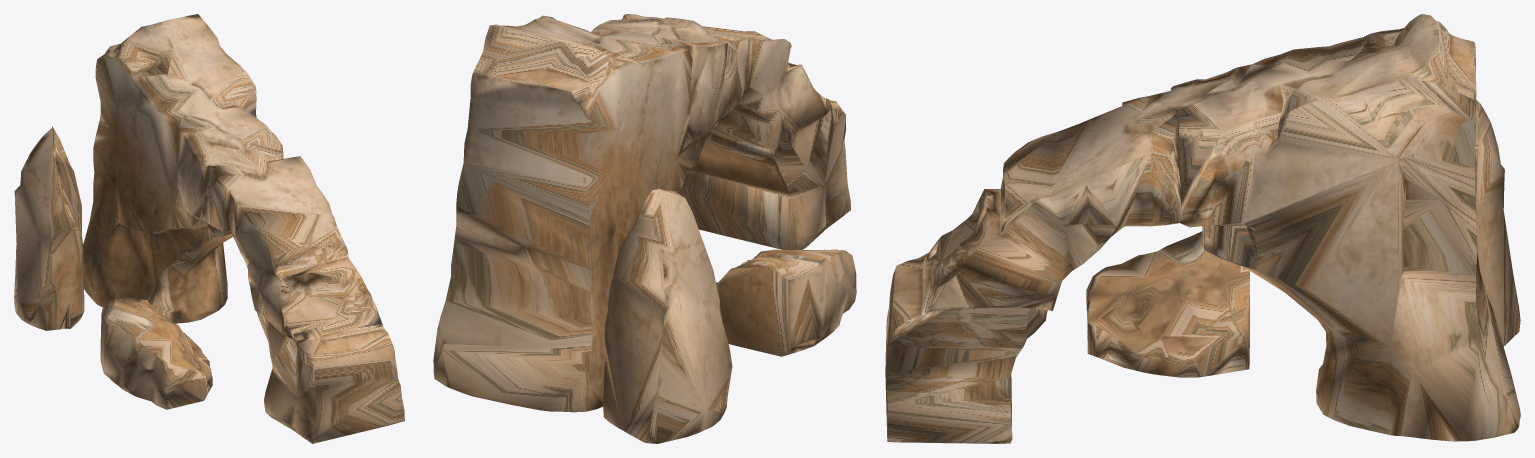
File: rock_slab_b_lod1.glb
The picture shows the model from 3 angles, left to right: view 1: azimuth 30°, elevation 25°; view 2: azimuth 150°, elevation 25°; view 3: azimuth 270°, elevation 25°; orthographic projection. The views are drawn at different scales.
Parts seen in each view (by area): view 1: model.005; view 2: model.005; view 3: model.005.
Boxes of the visible parts, <box> form: model.005: <box>14,14,404,443</box>; model.005: <box>433,14,856,443</box>; model.005: <box>885,14,1520,443</box>.
Bounding box in the file's own units: 0.9629 × 1.24 × 1.9.
1 material, 1 textured.
